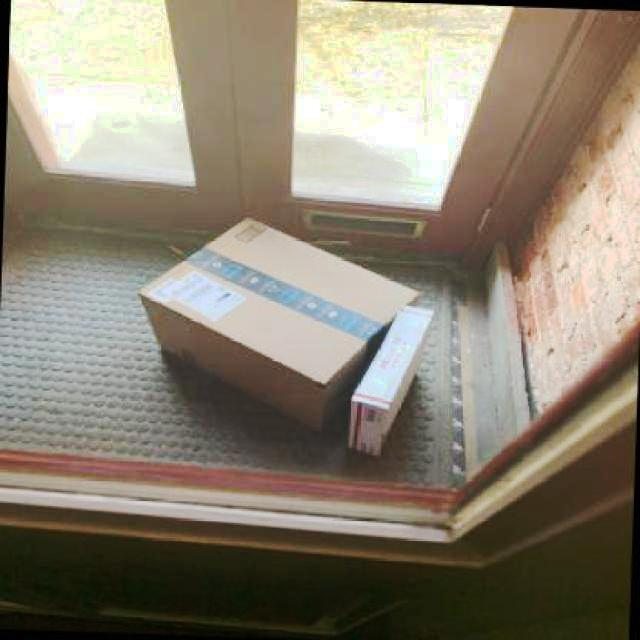Box: (134, 212, 422, 440), (345, 303, 438, 460)
